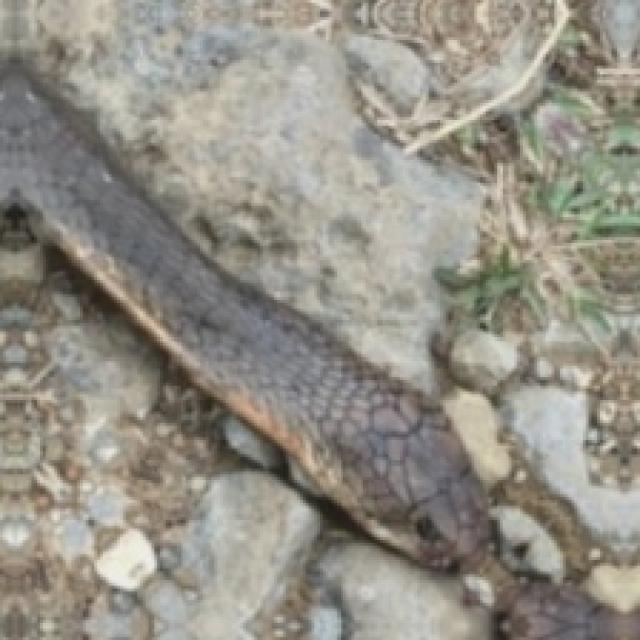king cobra: (0, 63, 597, 637)
